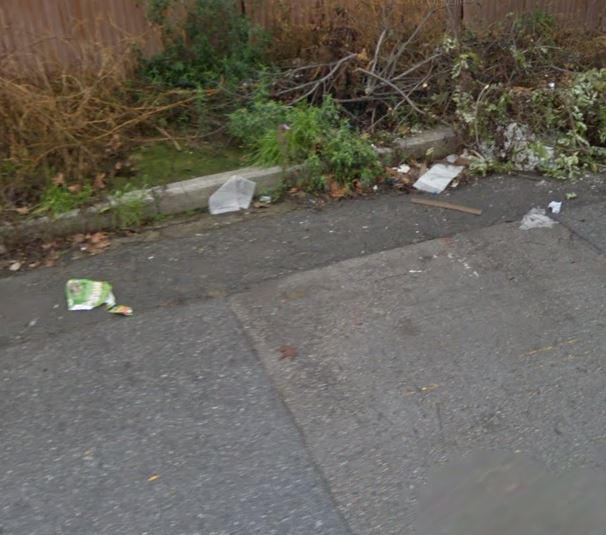trash: (190, 166, 275, 234), (57, 264, 141, 330), (506, 189, 582, 236), (409, 153, 470, 203)
